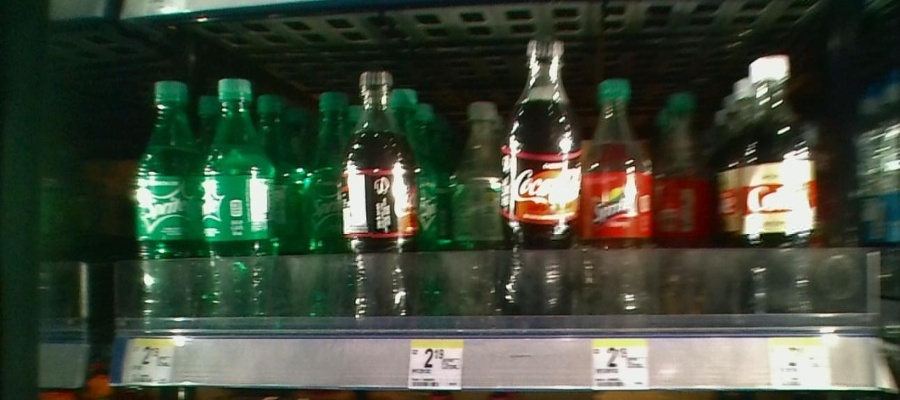bottle: (504, 34, 584, 317), (736, 54, 820, 319), (345, 65, 418, 327), (201, 80, 275, 324), (129, 76, 201, 324), (586, 72, 654, 319), (440, 90, 502, 324), (290, 88, 343, 323), (660, 84, 713, 317)
